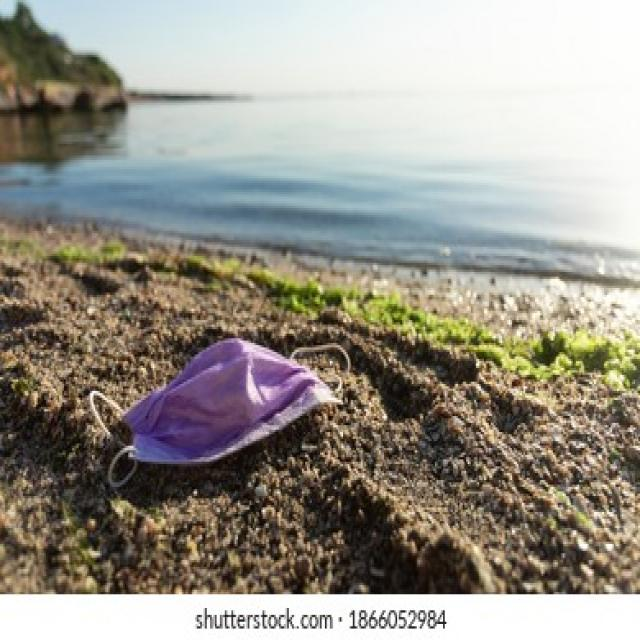non-organic waste: (95, 332, 350, 489)
